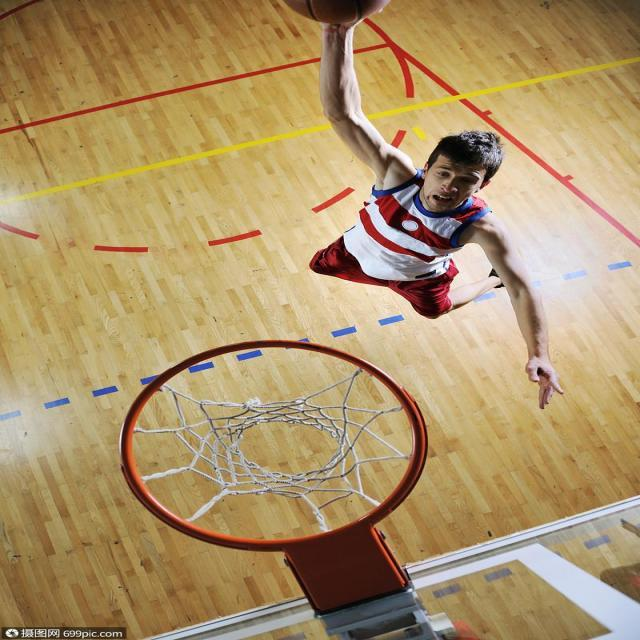rim: (282, 1, 396, 24)
